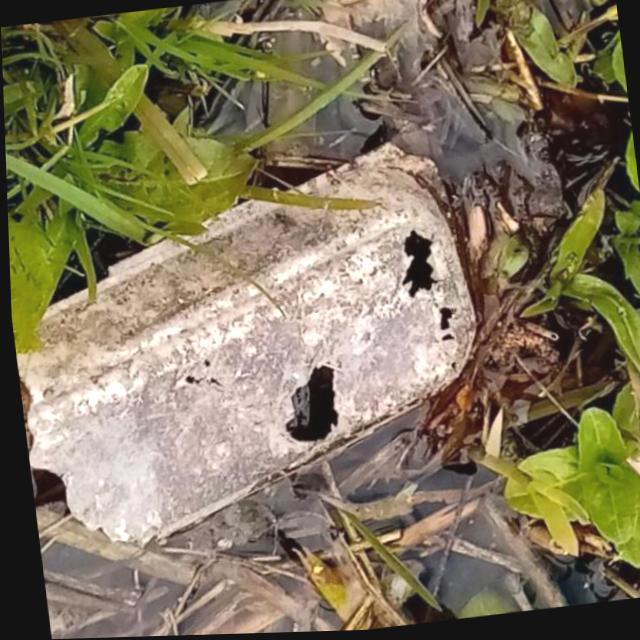Paper: (4, 130, 505, 563)
